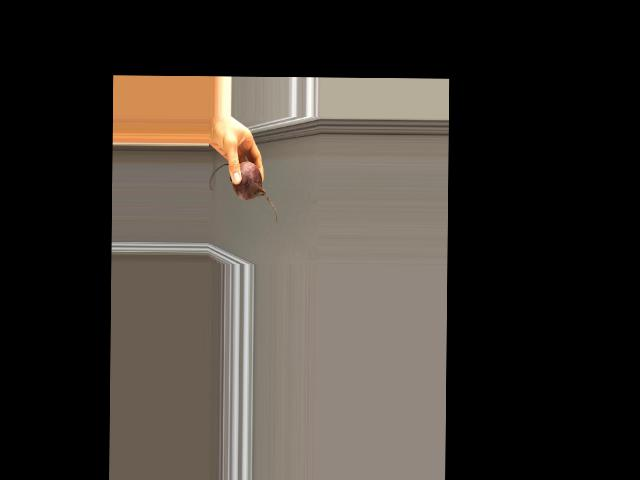beet: (208, 161, 277, 224)
